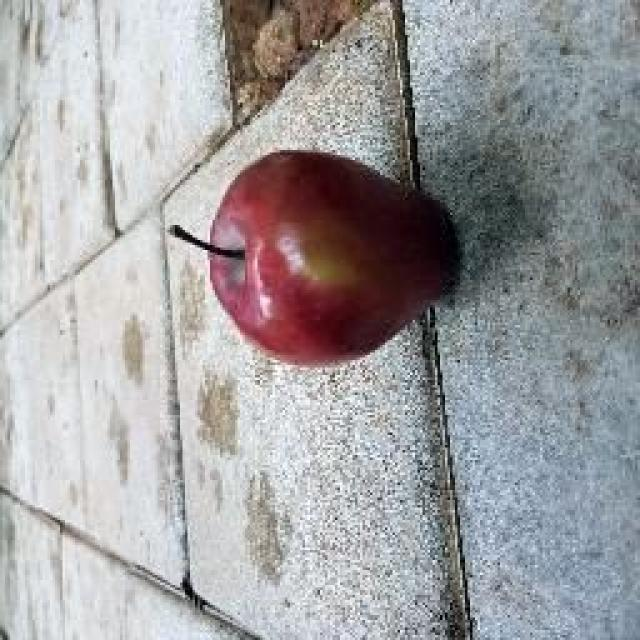Good_Apple: (172, 150, 462, 370)
